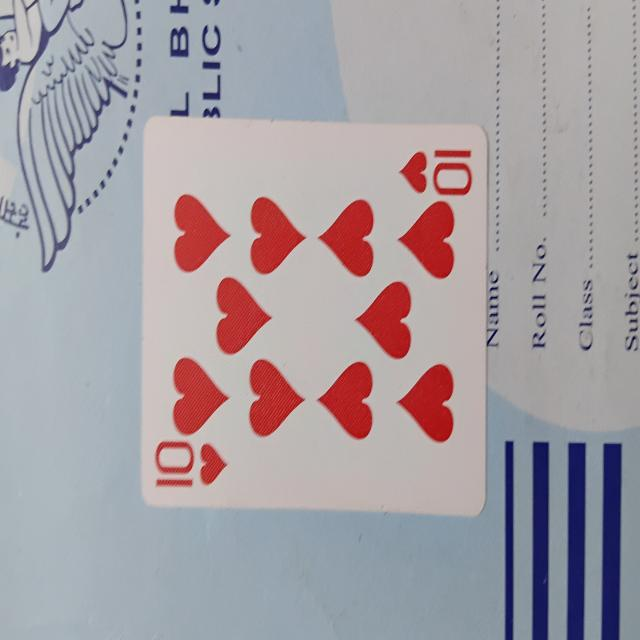10H: (145, 111, 486, 520)
